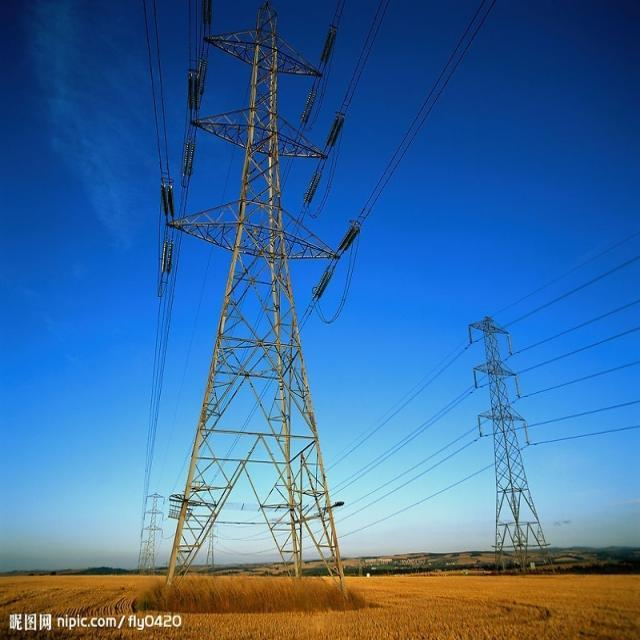non-critical vegetation: (148, 8, 360, 589), (446, 282, 550, 562)
